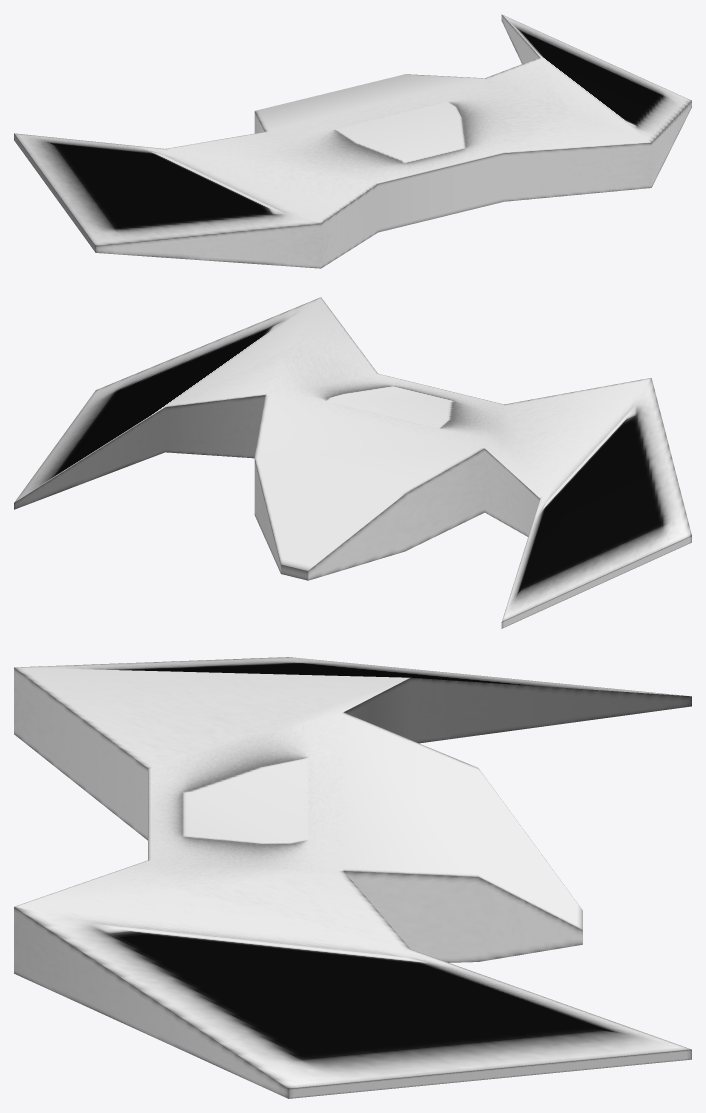
The model's file is enemy4.dae.
3 renders of one model, top to bottom at view 1: azimuth 30°, elevation 25°; view 2: azimuth 150°, elevation 25°; view 3: azimuth 270°, elevation 25°, orthographic. The views are drawn at different scales.
Visible parts, largest first — view 1: Mesh; view 2: Mesh; view 3: Mesh.
Part boxes in pixels (left/top/right/bottom): Mesh: left=14, top=14, right=691, bottom=268; Mesh: left=14, top=297, right=691, bottom=628; Mesh: left=14, top=657, right=691, bottom=1098.
Size of the model in its own units: 9.12 by 1.46 by 6.05.
Materials: 1 (1 with a texture image).
